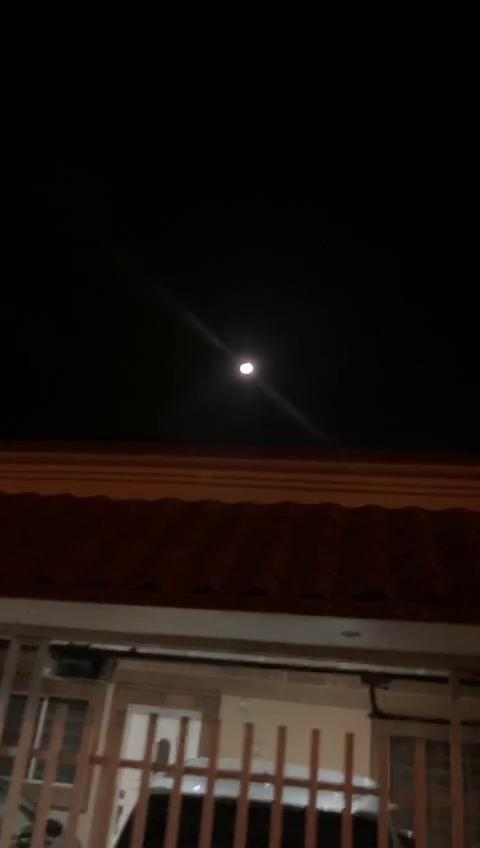moon: (234, 352, 265, 375)
